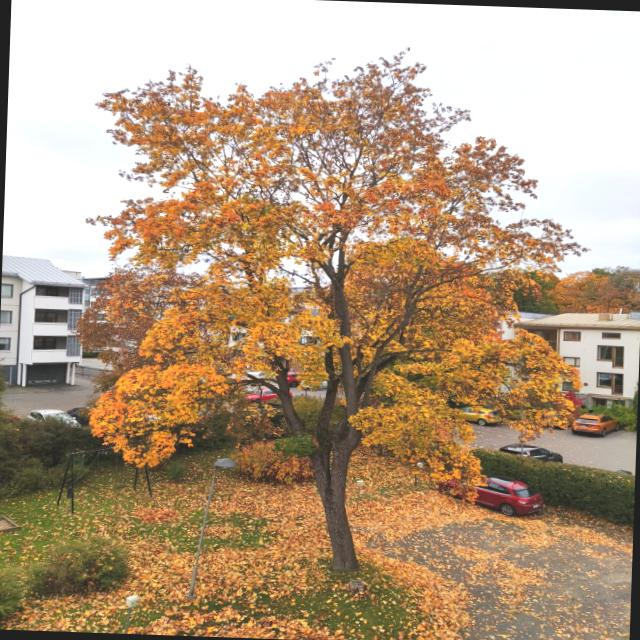Tree-detection: (60, 14, 604, 597)
